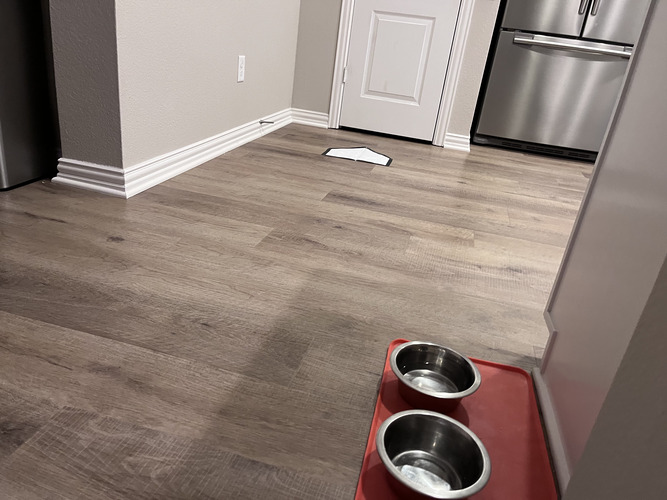homeplate: (321, 146, 393, 167)
